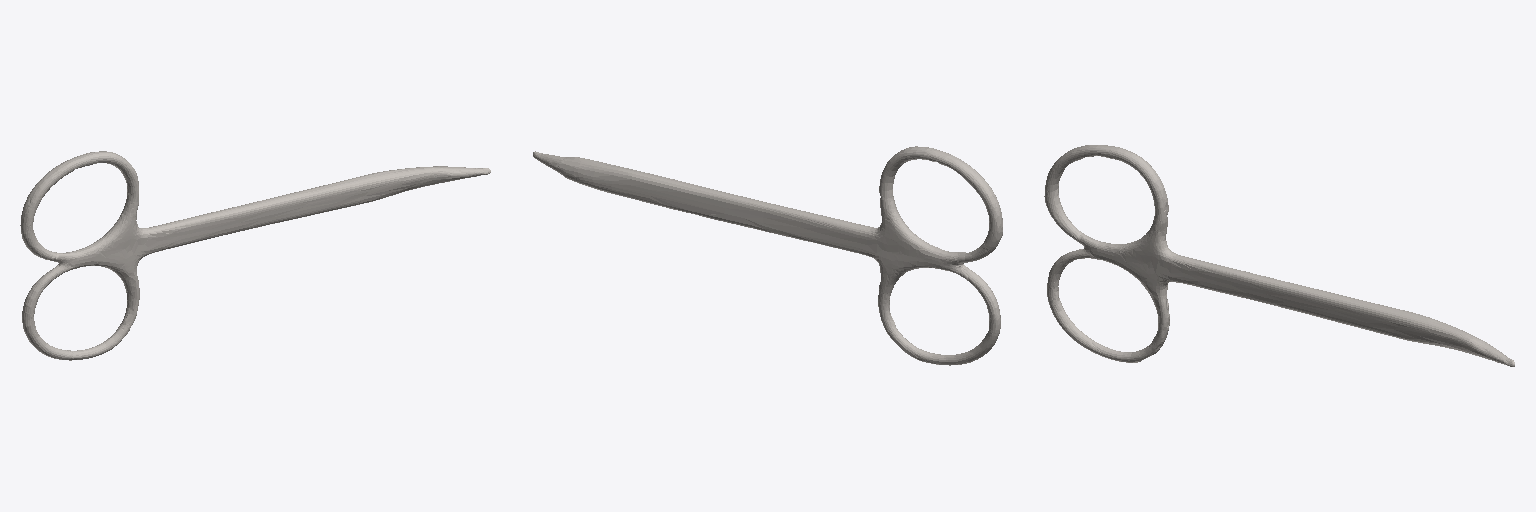
URDF robot description (Tooling_2):
<?xml version="1.0" encoding="utf-8"?>
<!-- This URDF was automatically created by SolidWorks to URDF Exporter! Originally created by Stephen Brawner (brawner@gmail.com)
     Commit Version: 1.6.0-4-g7f85cfe  Build Version: 1.6.7995.38578
     For more information, please see http://wiki.ros.org/sw_urdf_exporter -->
<robot
  name="Tooling_2">
  <link
    name="base_link">
    <inertial>
      <origin
        xyz="0.00034016 0.00099336 0.00030244"
        rpy="0 0 0" />
      <mass
        value="0.018533" />
      <inertia
        ixx="1.2709E-06"
        ixy="4.02E-07"
        ixz="-7.8775E-08"
        iyy="1.7538E-05"
        iyz="-8.8734E-09"
        izz="1.8775E-05" />
    </inertial>
    <visual>
      <origin
        xyz="0 0 0"
        rpy="0 0 0" />
      <geometry>
        <mesh
          filename="../meshes/base_link.STL" />
      </geometry>
      <material
        name="">
        <color
          rgba="0.77647 0.75686 0.73725 1" />
      </material>
    </visual>
    <collision>
      <origin
        xyz="0 0 0"
        rpy="0 0 0" />
      <geometry>
        <mesh
          filename="../meshes/base_link.STL" />
      </geometry>
    </collision>
  </link>
</robot>

--- Render facts (derived) ---
3 views of the same robot in one strip: view 1: azimuth 30°, elevation 25°; view 2: azimuth 150°, elevation 25°; view 3: azimuth 330°, elevation 25° (orthographic).
Robot: Tooling_2 — 1 links, 0 joints (none); root link base_link; default pose: every joint at zero.
Links seen in each view (by area): view 1: base_link; view 2: base_link; view 3: base_link.
Boxes of the visible links, bbox=[...] form: base_link: bbox=[20, 151, 490, 360]; base_link: bbox=[533, 146, 1002, 365]; base_link: bbox=[1044, 145, 1514, 366].
Size in the robot's own frame: 0.1121 by 0.0065 by 0.0476 metres.
Meshes: 1 distinct files referenced, 1 mesh visuals loaded (1 binary STL).
